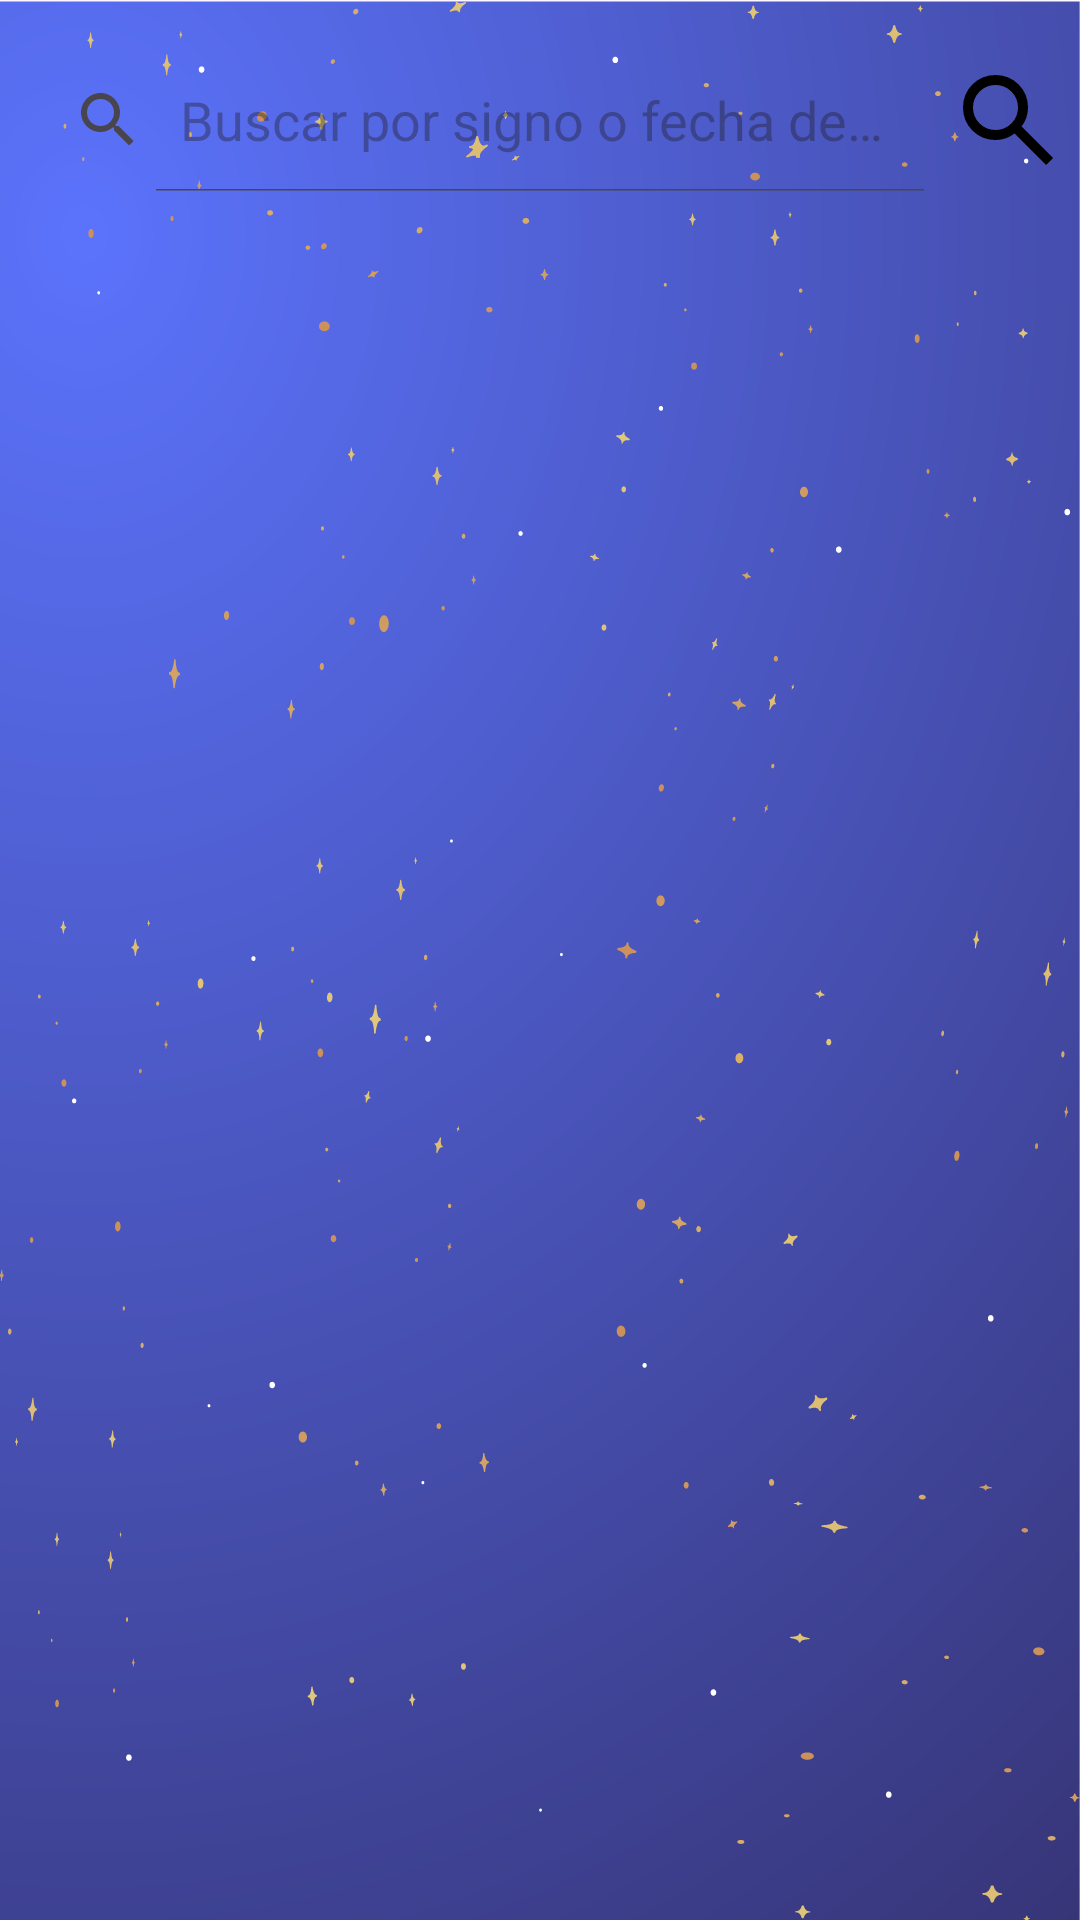

Screen size 1080 × 1920. Icon name, then its box in pixels as [left=x1, top=y1, right=x2, bottom=y2]:
Botón para abrir el teclado y buscar: [left=951, top=75, right=1053, bottom=165]
